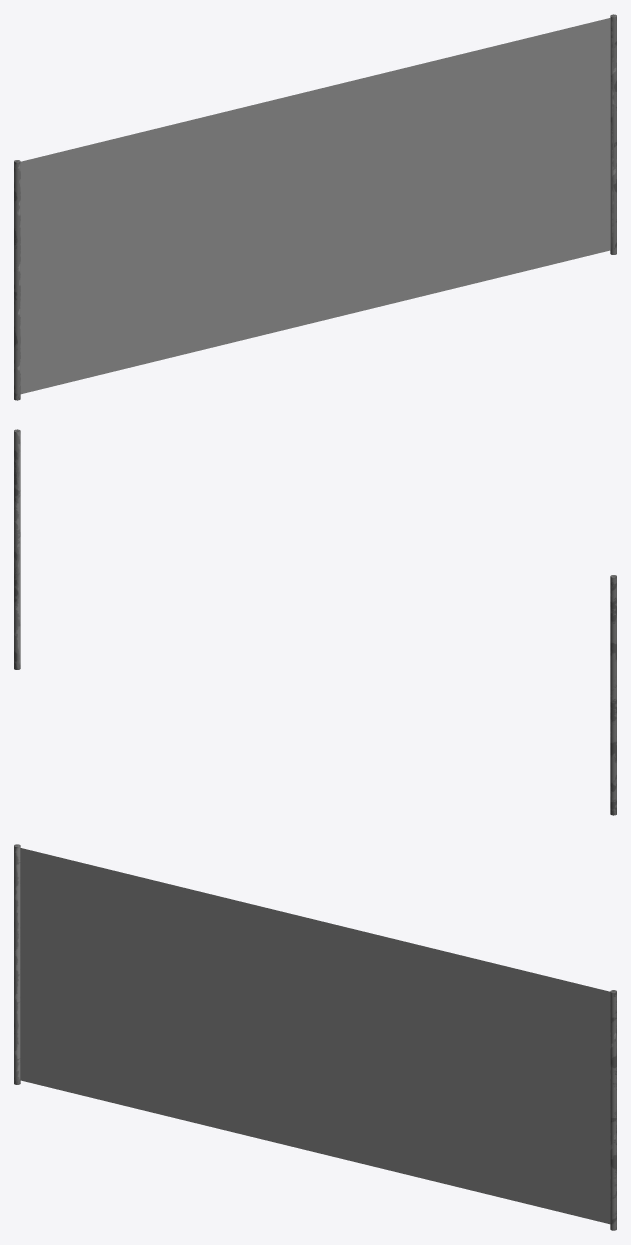
Rendered from Fence.glb.
3 renders of one model, top to bottom at view 1: azimuth 30°, elevation 25°; view 2: azimuth 150°, elevation 25°; view 3: azimuth 330°, elevation 25°, orthographic.
Visible parts, largest first — view 1: Fence_Gate.001, Fence_Pole_L.001, Fence_Pole_R.001; view 2: Fence_Pole_L.001, Fence_Pole_R.001; view 3: Fence_Gate.001, Fence_Pole_L.001, Fence_Pole_R.001.
Part boxes in pixels (x1,y1,x2,y2): Fence_Gate.001: (20,18,610,394); Fence_Pole_L.001: (14,160,20,400); Fence_Pole_R.001: (610,14,616,254); Fence_Pole_L.001: (610,575,616,815); Fence_Pole_R.001: (14,429,20,669); Fence_Gate.001: (20,848,610,1224); Fence_Pole_L.001: (14,844,20,1084); Fence_Pole_R.001: (610,990,616,1230).
Bounding box in the file's own units: 35.15 × 13.28 × 0.3369.
2 materials, 2 textured.
